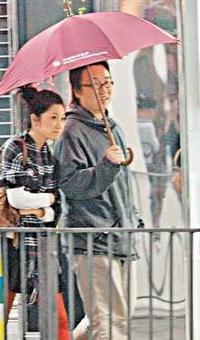person: (53, 61, 138, 340)
